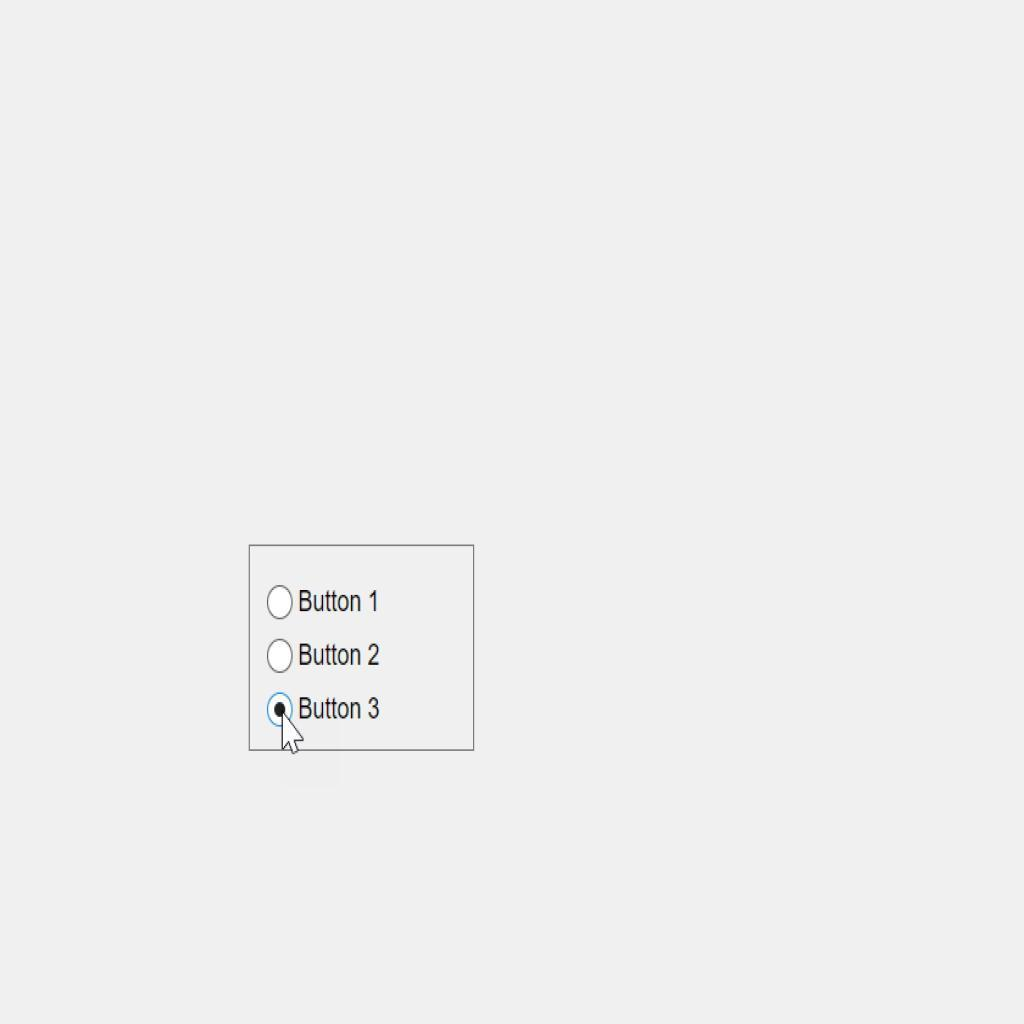label: (297, 586, 383, 619), (297, 642, 385, 672), (298, 693, 383, 724)
radio: (265, 636, 295, 675), (267, 583, 295, 623)
